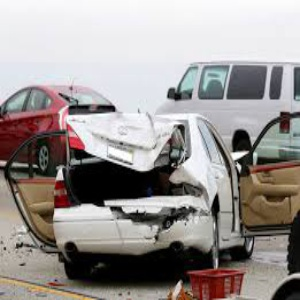bonnet: (69, 111, 175, 171)
bumper: (107, 202, 208, 244)
